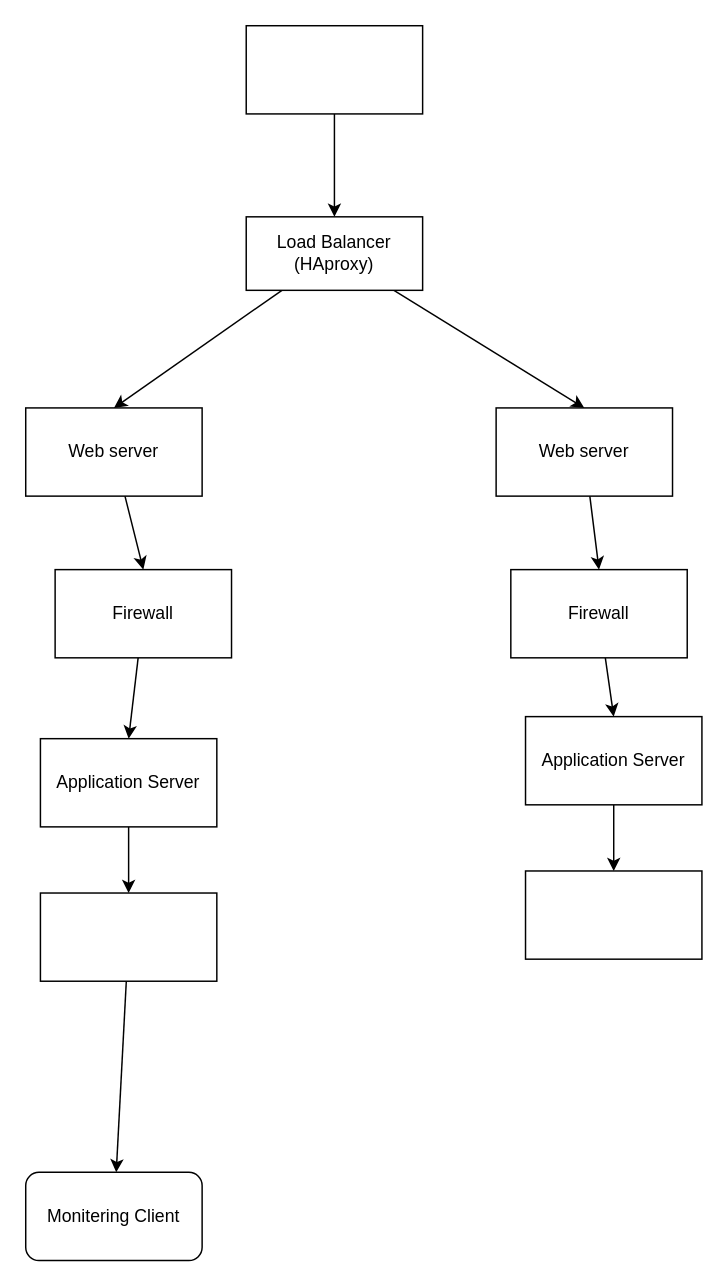
The diagram is 728 pixels wide and 1286 high, and some of its shapes have lost their labels. The box of each missing label's shape, as (x1, y1, x2, y2) in pixels:
Database Server: (39, 892, 217, 981)
Database Sevrer: (524, 870, 702, 959)
Users/Clients: (245, 24, 423, 114)
